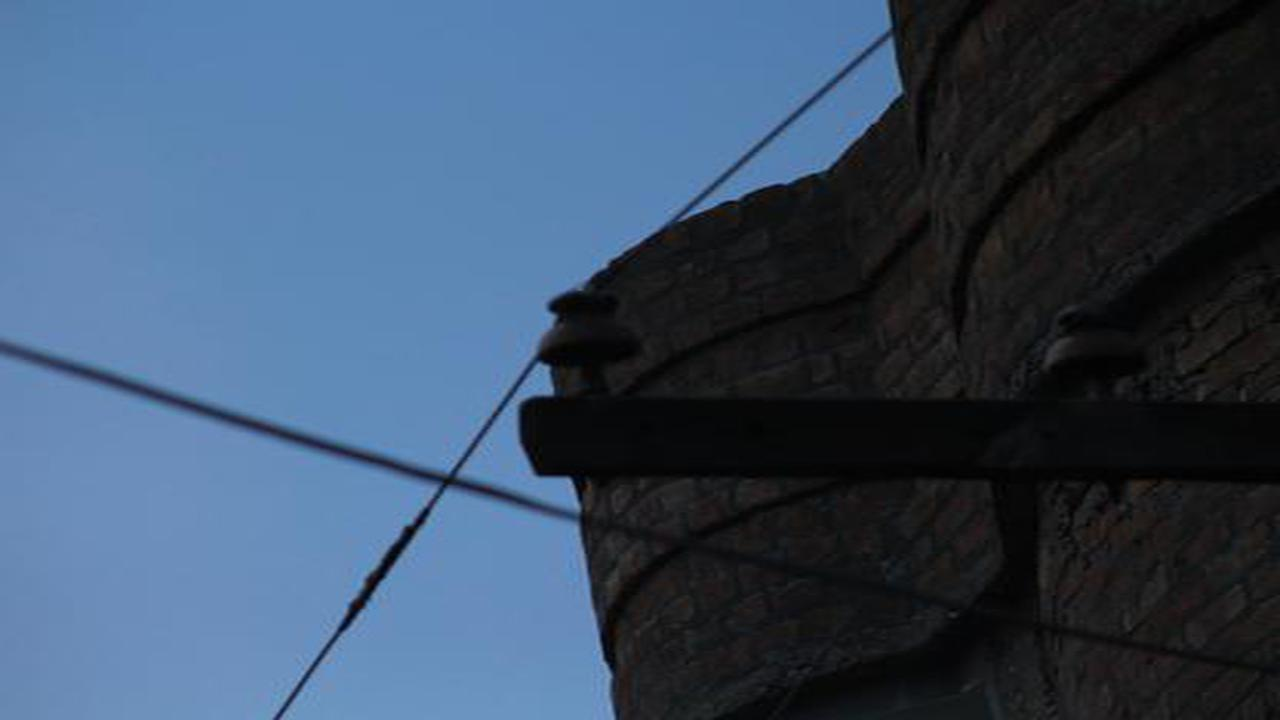insulator_pin: (523, 283, 652, 380), (1027, 295, 1160, 389)
